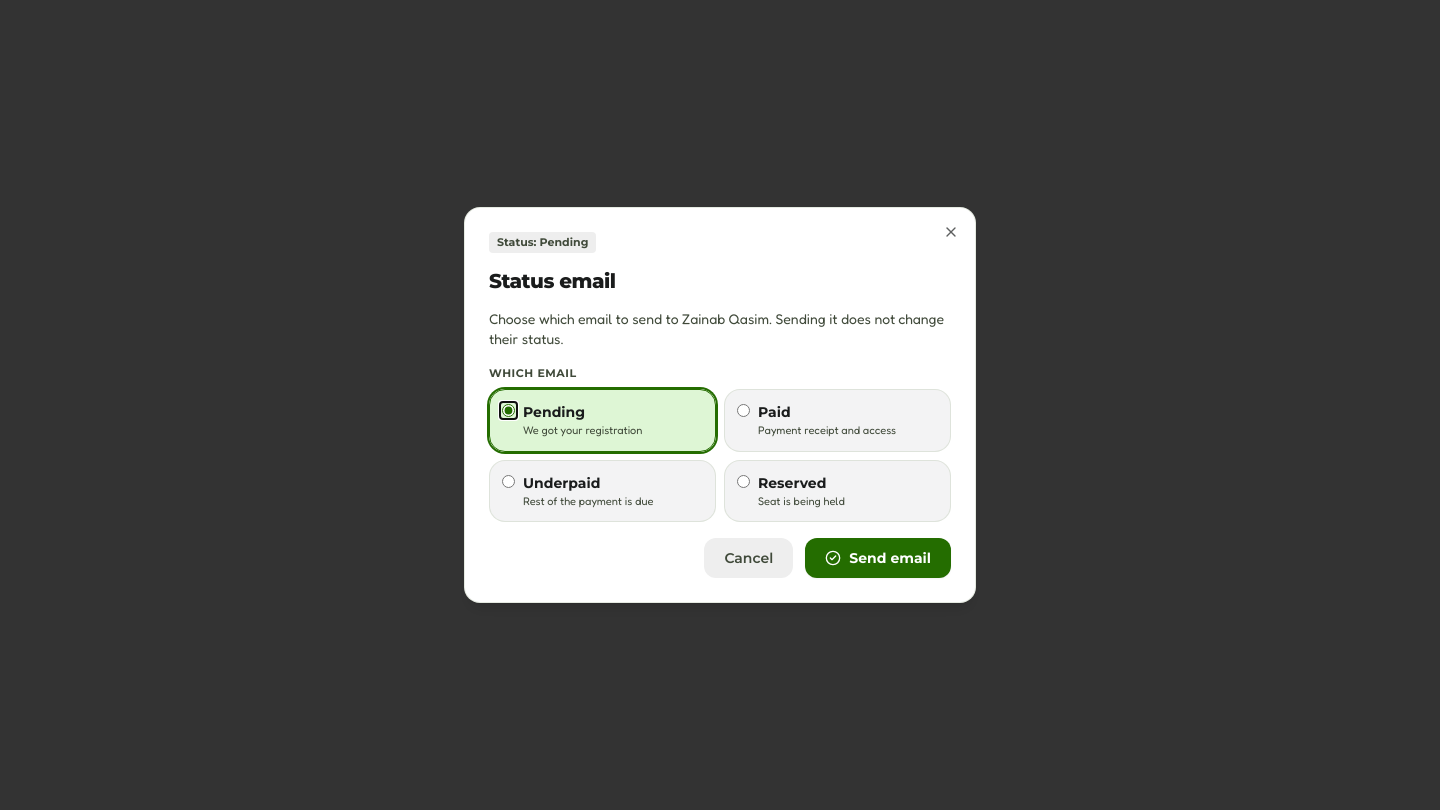
status email dialog › warns when the chosen email does not match the status
Check: the text "You picked" is not shown
Click the radio button labelled "Paid Payment receipt and access".
click(744, 410)  # box [737,404,750,417]
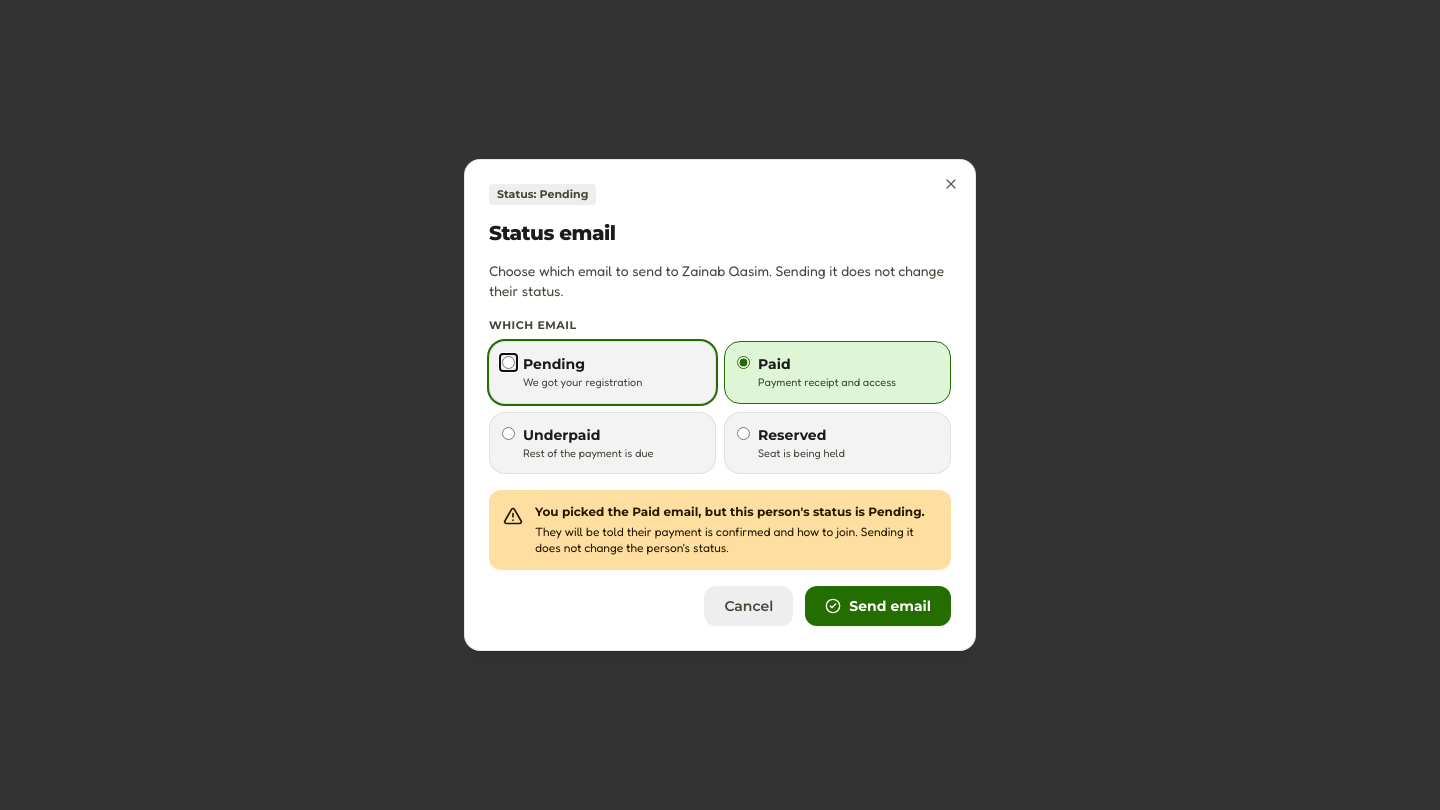
Check: the text "You picked the Paid email, but this person's status is Pending." is shown, box [535,504,937,520]
Check: the text "does not change the person's status" is shown, box [535,524,914,555]
